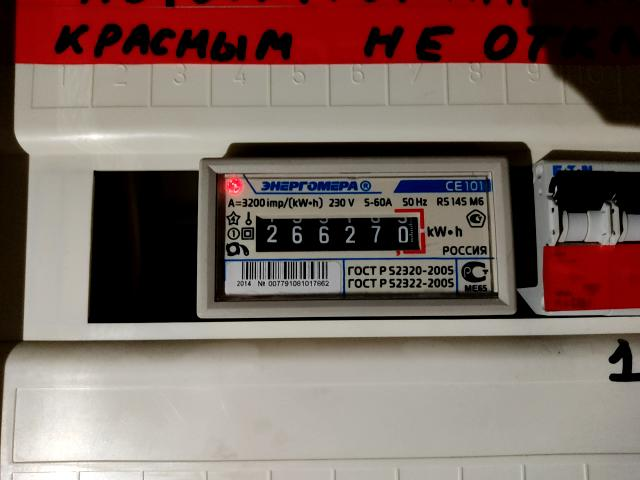0: (397, 224, 409, 245)
2: (265, 223, 279, 244), (344, 224, 356, 245)
6: (291, 225, 304, 245), (317, 225, 330, 244)
7: (369, 224, 382, 245)
screen: (246, 205, 433, 262)
